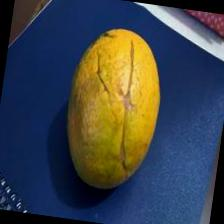Orange Rotten: (44, 18, 180, 210)
